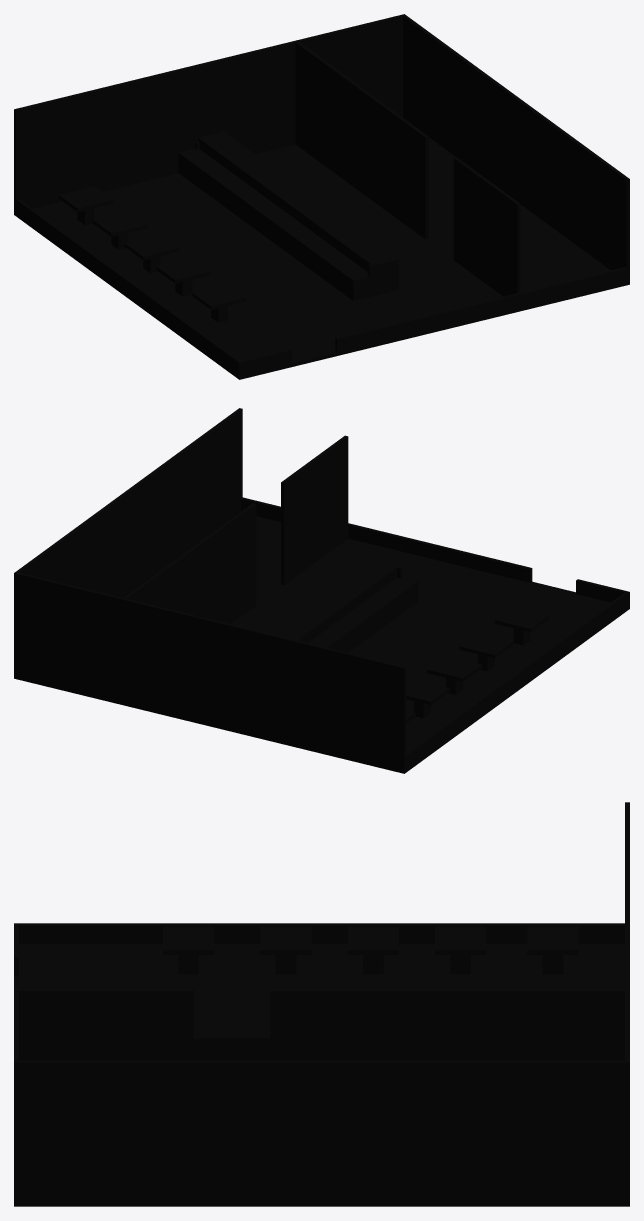
File: restorant.obj
3 views of the same model, one above another, from view 1: azimuth 30°, elevation 25°; view 2: azimuth 150°, elevation 25°; view 3: azimuth 270°, elevation 25° (orthographic). The views are drawn at different scales.
Size of the model in its own units: 12 by 3.1 by 12.
